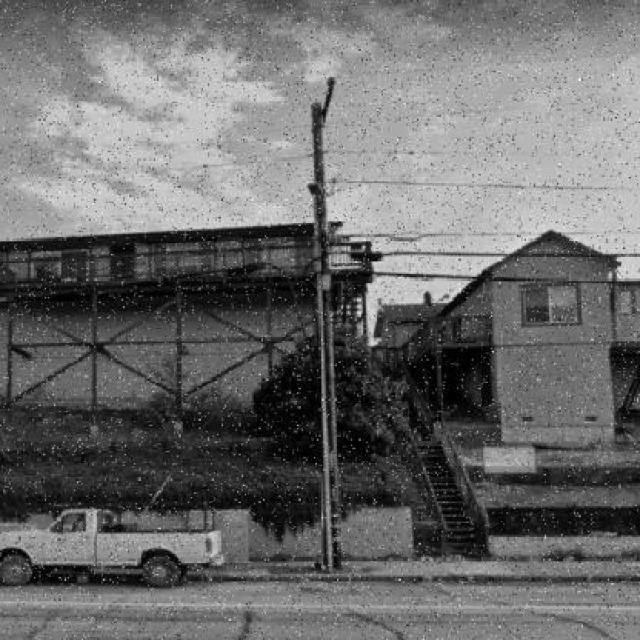pole: (260, 50, 374, 588)
